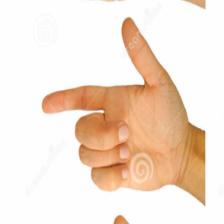five: (41, 16, 194, 211)
